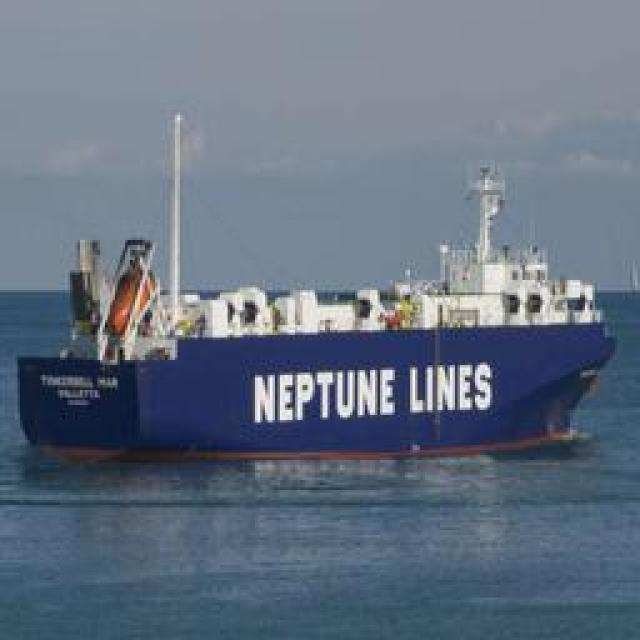ship2: (16, 111, 618, 465)
